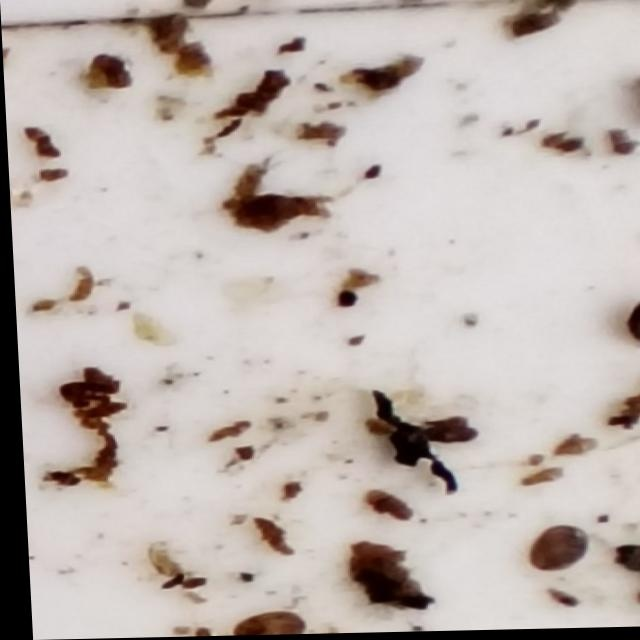varroa: (520, 525, 590, 580), (623, 295, 639, 351)
